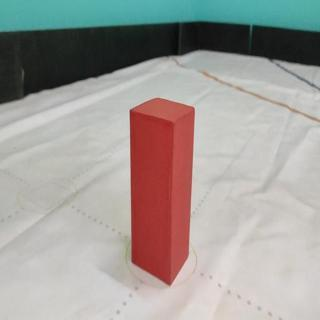redbox: (127, 97, 194, 286)
